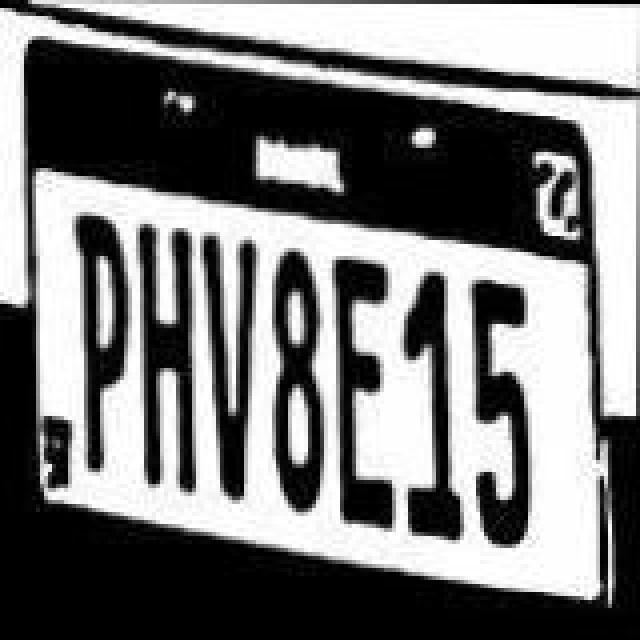1: (402, 268, 466, 536)
5: (472, 270, 532, 550)
8: (270, 244, 326, 512)
E: (332, 254, 400, 526)
H: (134, 222, 198, 498)
P: (74, 210, 130, 478)
V: (200, 234, 260, 506)
